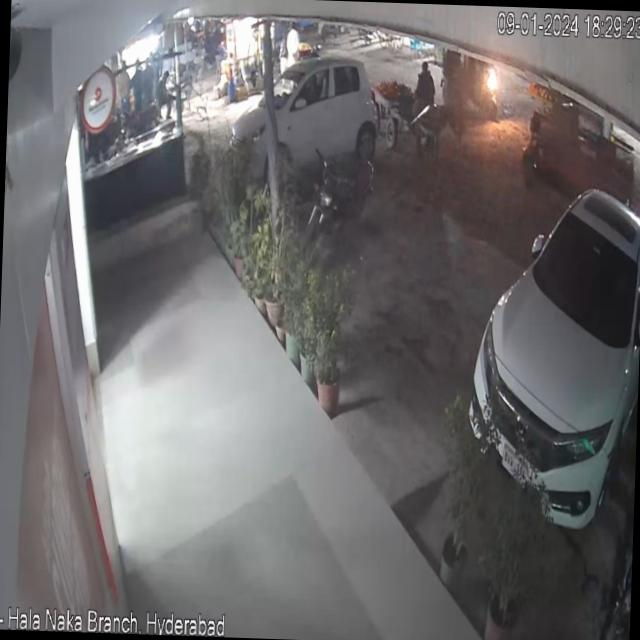Car: (463, 164, 640, 550), (228, 55, 399, 192)
Motorcycle: (294, 136, 374, 258)
